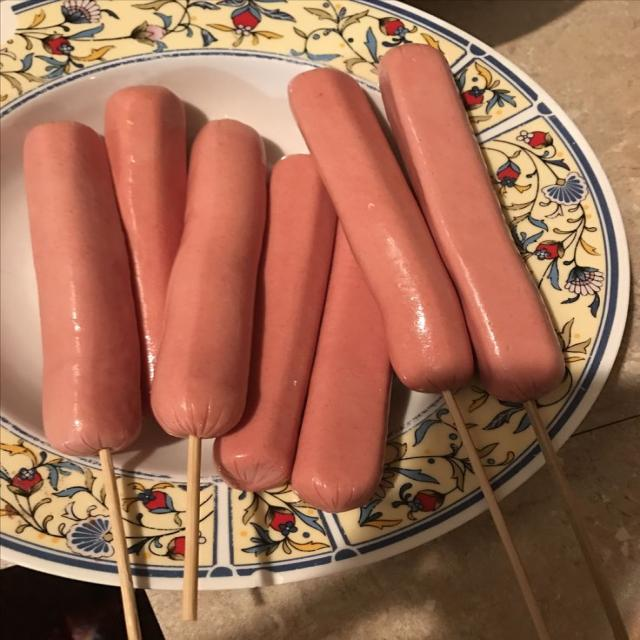sausage: (380, 45, 564, 401), (290, 69, 473, 391), (214, 155, 336, 491), (24, 122, 140, 455), (152, 120, 266, 437), (292, 228, 390, 512), (106, 87, 186, 401)
